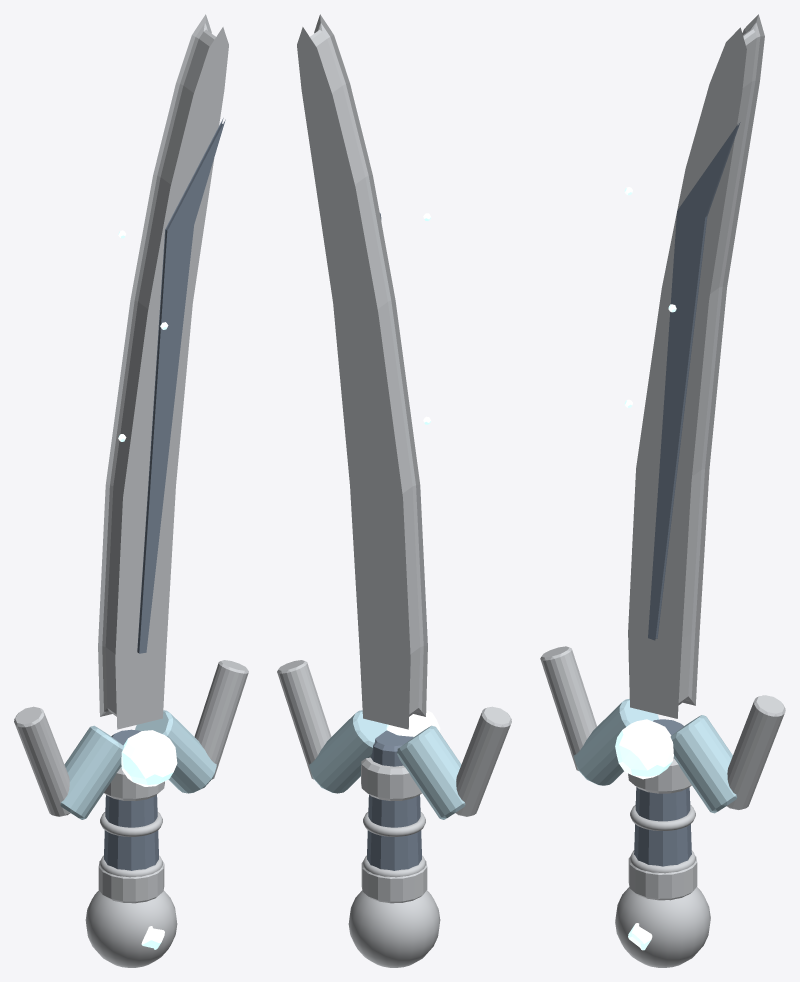
File: assassin-sword-01-silent-moon.glb
3 renders of one model, left to right at view 1: azimuth 30°, elevation 25°; view 2: azimuth 150°, elevation 25°; view 3: azimuth 330°, elevation 25°, orthographic. The views are drawn at different scales.
Visible parts, largest first — view 1: assassin-sword-01-silent-moon_ForgedBlade, assassin-sword-01-silent-moon_ColoredFuller, assassin-sword-01-silent-moon_Pommel, assassin-sword-01-silent-moon_Guard_Left, assassin-sword-01-silent-moon_LeatherGrip, assassin-sword-01-silent-moon_Guard_LeftTip, assassin-sword-01-silent-moon_Guard_RightTip, assassin-sword-01-silent-moon_Guard_Right, assassin-sword-01-silent-moon_GuardGem, assassin-sword-01-silent-moon_LowerFerrule, assassin-sword-01-silent-moon_UpperFerrule, assassin-sword-01-silent-moon_GripBinding_2 (+1 smaller); view 2: assassin-sword-01-silent-moon_ForgedBlade, assassin-sword-01-silent-moon_Pommel, assassin-sword-01-silent-moon_LeatherGrip, assassin-sword-01-silent-moon_Guard_Left, assassin-sword-01-silent-moon_Guard_Right, assassin-sword-01-silent-moon_Guard_LeftTip, assassin-sword-01-silent-moon_Guard_RightTip, assassin-sword-01-silent-moon_UpperFerrule, assassin-sword-01-silent-moon_LowerFerrule, assassin-sword-01-silent-moon_GripBinding_2, assassin-sword-01-silent-moon_GuardGem, assassin-sword-01-silent-moon_GripBinding_1; view 3: assassin-sword-01-silent-moon_ForgedBlade, assassin-sword-01-silent-moon_ColoredFuller, assassin-sword-01-silent-moon_Pommel, assassin-sword-01-silent-moon_Guard_Right, assassin-sword-01-silent-moon_LeatherGrip, assassin-sword-01-silent-moon_Guard_RightTip, assassin-sword-01-silent-moon_Guard_LeftTip, assassin-sword-01-silent-moon_Guard_Left, assassin-sword-01-silent-moon_GuardGem, assassin-sword-01-silent-moon_LowerFerrule, assassin-sword-01-silent-moon_UpperFerrule, assassin-sword-01-silent-moon_GripBinding_2 (+1 smaller).
Part boxes in pixels (x1,y1,x2,y2): assassin-sword-01-silent-moon_ForgedBlade: (98, 14, 228, 729); assassin-sword-01-silent-moon_ColoredFuller: (137, 118, 225, 653); assassin-sword-01-silent-moon_Pommel: (85, 890, 177, 967); assassin-sword-01-silent-moon_Guard_Left: (60, 725, 123, 819); assassin-sword-01-silent-moon_LeatherGrip: (104, 729, 158, 870); assassin-sword-01-silent-moon_Guard_LeftTip: (14, 706, 70, 816); assassin-sword-01-silent-moon_Guard_RightTip: (194, 660, 248, 779); assassin-sword-01-silent-moon_Guard_Right: (135, 710, 216, 793); assassin-sword-01-silent-moon_GuardGem: (121, 730, 177, 786); assassin-sword-01-silent-moon_LowerFerrule: (98, 860, 164, 903); assassin-sword-01-silent-moon_UpperFerrule: (104, 767, 164, 800); assassin-sword-01-silent-moon_GripBinding_2: (100, 812, 162, 836); assassin-sword-01-silent-moon_ForgedBlade: (297, 14, 427, 729); assassin-sword-01-silent-moon_Pommel: (348, 890, 440, 967); assassin-sword-01-silent-moon_LeatherGrip: (367, 730, 421, 870); assassin-sword-01-silent-moon_Guard_Left: (397, 725, 465, 819); assassin-sword-01-silent-moon_Guard_Right: (309, 710, 386, 793); assassin-sword-01-silent-moon_Guard_LeftTip: (455, 706, 511, 816); assassin-sword-01-silent-moon_Guard_RightTip: (277, 660, 331, 779); assassin-sword-01-silent-moon_UpperFerrule: (361, 757, 421, 800); assassin-sword-01-silent-moon_LowerFerrule: (361, 860, 427, 903); assassin-sword-01-silent-moon_GripBinding_2: (363, 812, 425, 836); assassin-sword-01-silent-moon_GuardGem: (386, 710, 440, 736); assassin-sword-01-silent-moon_GripBinding_1: (363, 855, 425, 877); assassin-sword-01-silent-moon_ForgedBlade: (628, 14, 764, 718); assassin-sword-01-silent-moon_ColoredFuller: (648, 122, 740, 640); assassin-sword-01-silent-moon_Pommel: (615, 887, 710, 967); assassin-sword-01-silent-moon_Guard_Right: (670, 715, 736, 813); assassin-sword-01-silent-moon_LeatherGrip: (634, 719, 691, 866); assassin-sword-01-silent-moon_Guard_RightTip: (726, 695, 785, 809); assassin-sword-01-silent-moon_Guard_LeftTip: (540, 646, 596, 770); assassin-sword-01-silent-moon_Guard_Left: (574, 699, 659, 785); assassin-sword-01-silent-moon_GuardGem: (615, 719, 673, 779); assassin-sword-01-silent-moon_LowerFerrule: (628, 856, 697, 900); assassin-sword-01-silent-moon_UpperFerrule: (628, 758, 691, 793); assassin-sword-01-silent-moon_GripBinding_2: (630, 805, 695, 830).
Size of the model in its own units: 0.3692 by 1.41 by 0.15.
